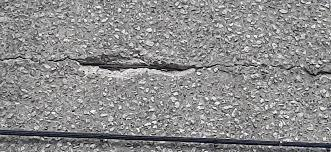Crack: (1, 54, 331, 77)
Exposed reinforcement: (1, 129, 331, 146), (79, 62, 183, 71)
